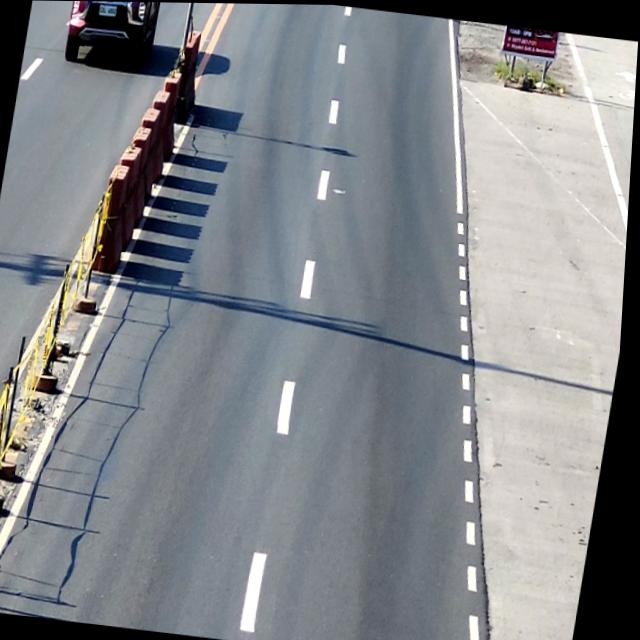Car: (61, 1, 162, 71)
License-Plate: (98, 3, 117, 16)
